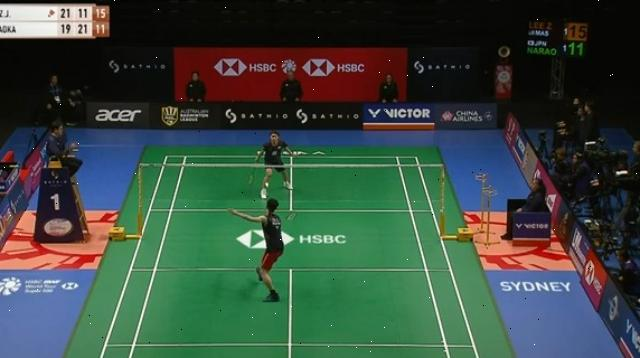Shuttlecock: (254, 150, 262, 158)
